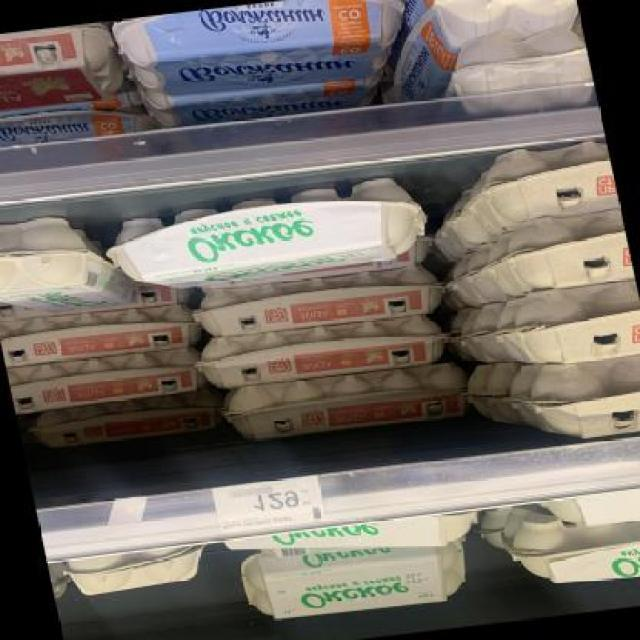egg: (102, 173, 436, 296), (232, 534, 477, 632), (216, 362, 479, 446), (187, 262, 450, 342), (195, 312, 458, 392), (490, 498, 640, 599), (5, 342, 204, 416), (440, 28, 598, 120), (0, 299, 195, 372), (428, 0, 584, 51)
